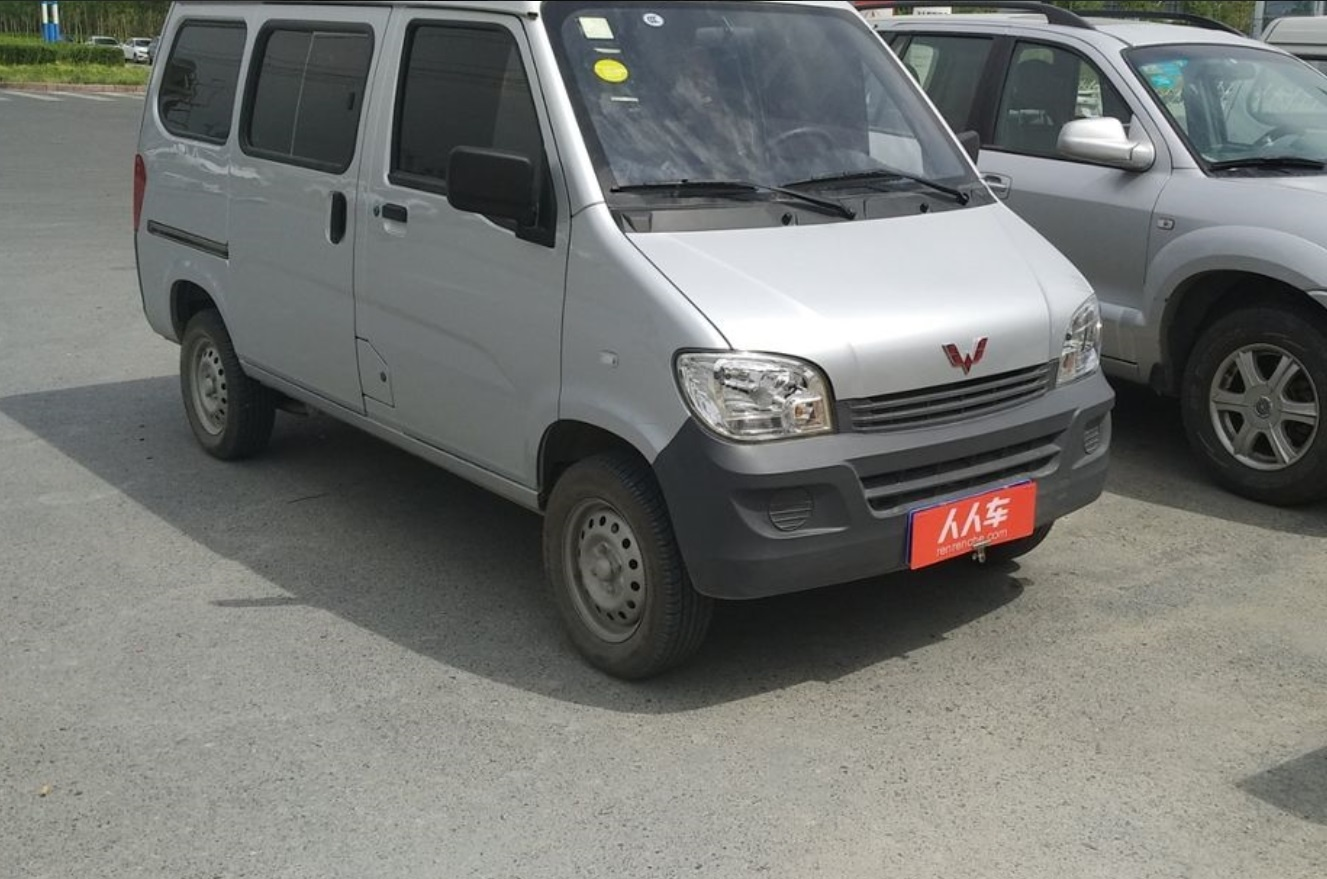minibus: (127, 1, 1125, 651)
